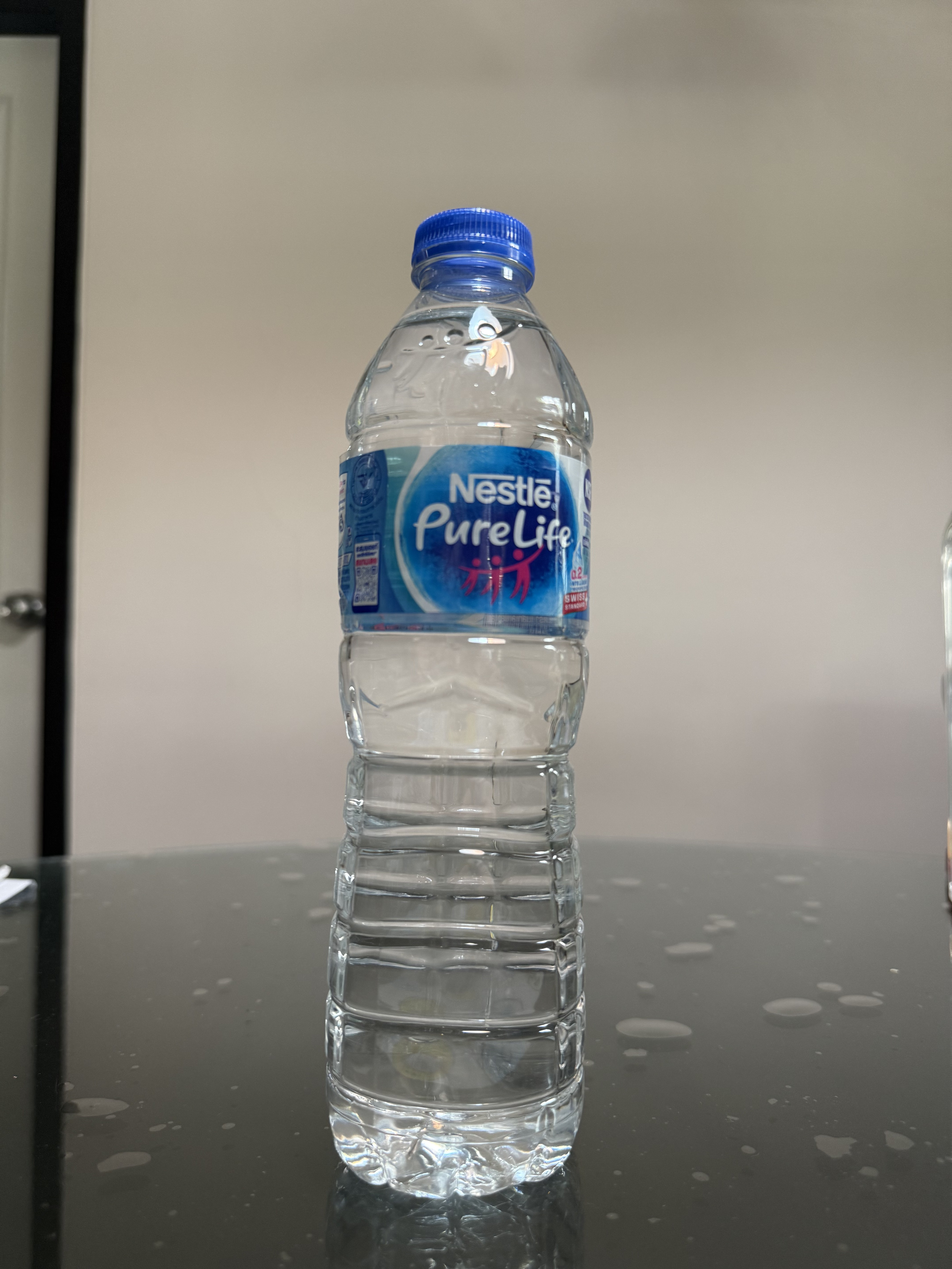closed_cap: (408, 204, 537, 292)
